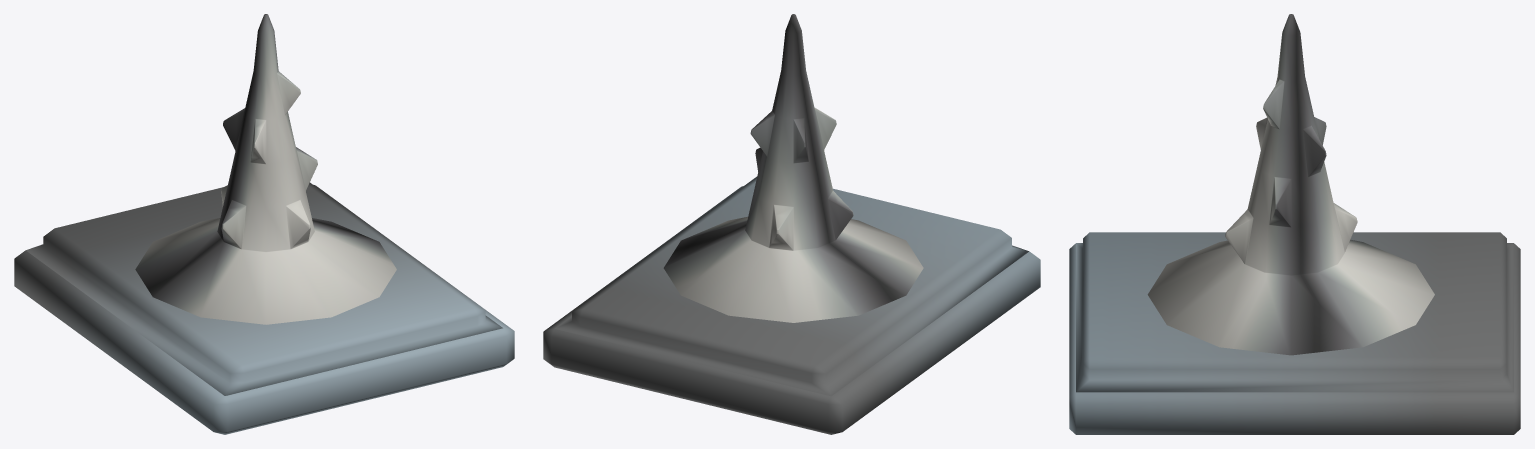
File: Spikes2.fbx
The picture shows the model from 3 angles, left to right: view 1: azimuth 30°, elevation 25°; view 2: azimuth 150°, elevation 25°; view 3: azimuth 270°, elevation 25°; orthographic projection. The views are drawn at different scales.
Parts seen in each view (by area): view 1: Spikes2; view 2: Spikes2; view 3: Spikes2.
Boxes of the visible parts, <box> form: Spikes2: <box>14,14,514,434</box>; Spikes2: <box>543,14,1040,434</box>; Spikes2: <box>1069,14,1520,434</box>.
Size of the model in its own units: 294 by 293 by 348.
